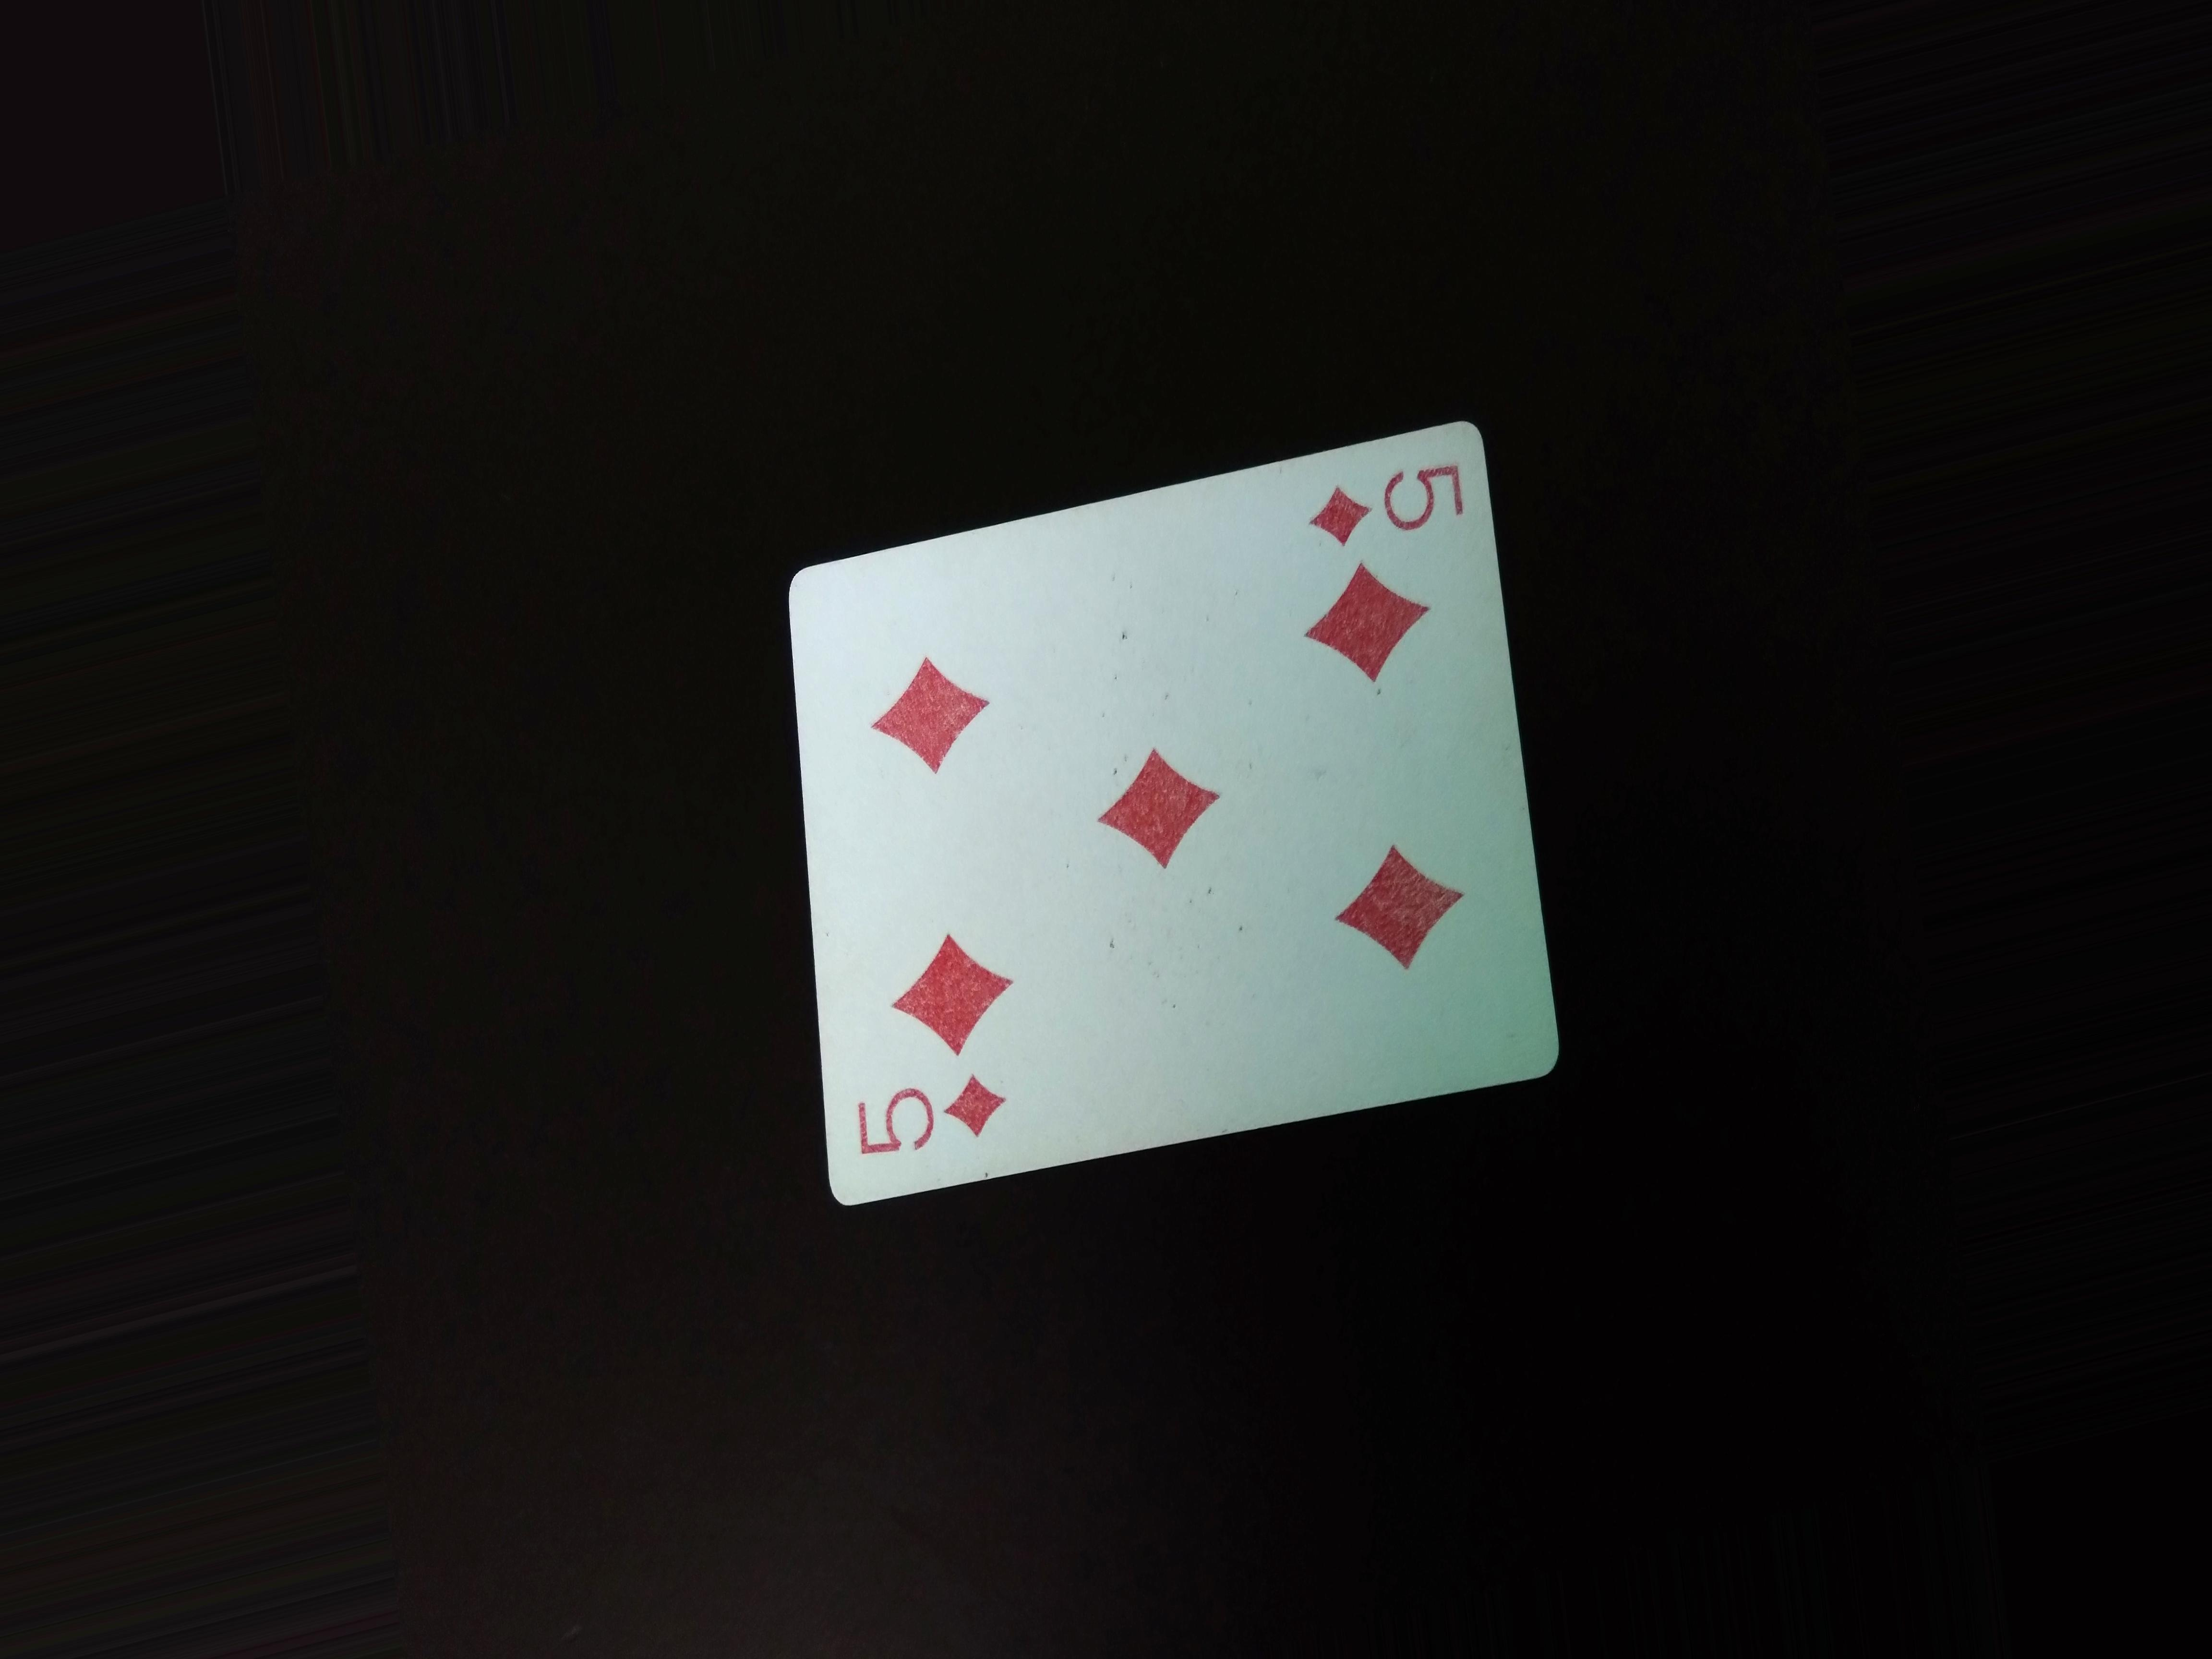5D: (829, 1070, 1049, 1178)
